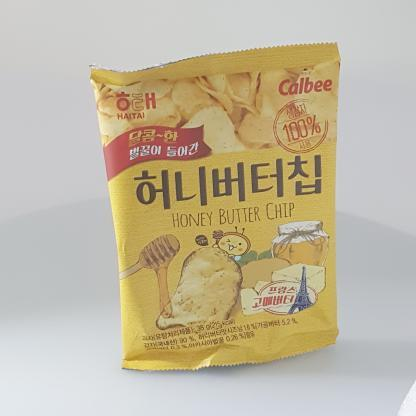Plastic Packaging: (84, 37, 356, 383)
